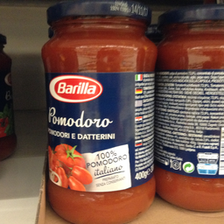tomato_sauce: (40, 1, 159, 224), (155, 4, 224, 214)
